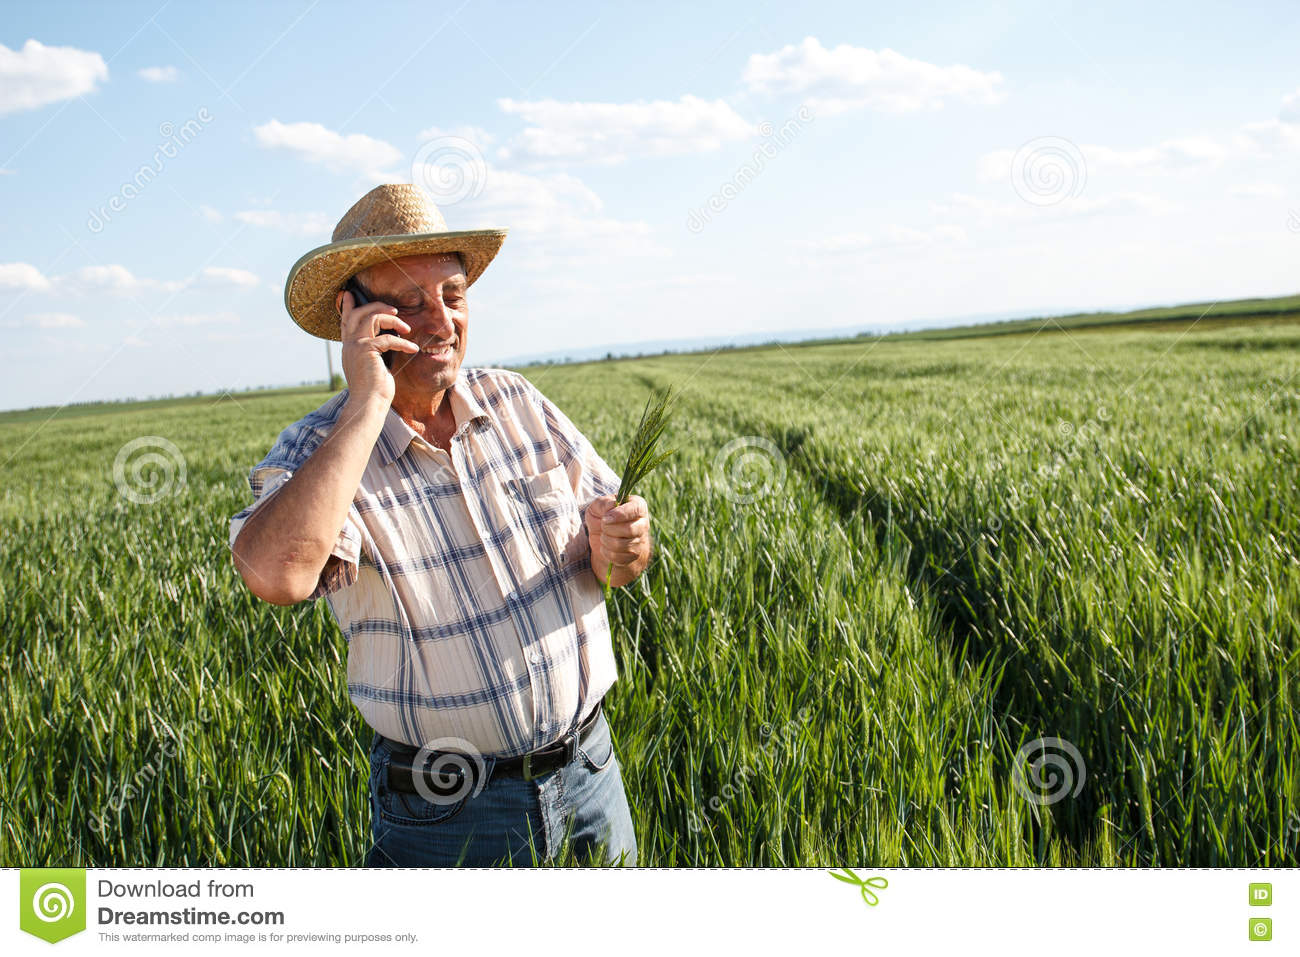phone: (341, 289, 400, 378)
talk: (337, 274, 468, 413)
